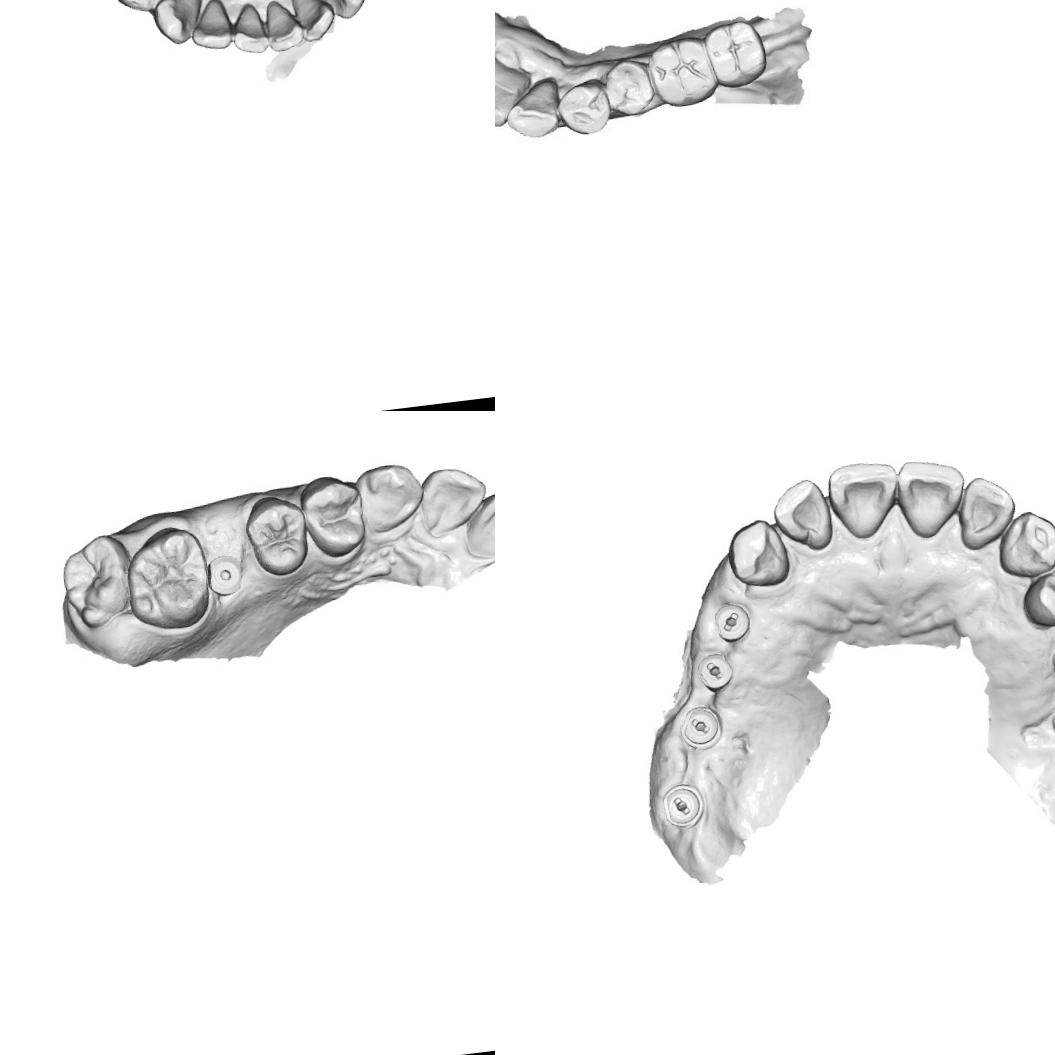canine: (350, 459, 428, 536), (724, 516, 794, 592), (992, 508, 1055, 581), (500, 74, 566, 142), (149, 0, 210, 47), (306, 0, 368, 23)
implant: (205, 554, 245, 596)
implant_minus: (659, 784, 706, 829), (680, 708, 727, 752), (694, 648, 740, 690), (713, 600, 754, 640)
incisor: (890, 450, 969, 540), (825, 460, 903, 544), (414, 461, 490, 533), (950, 472, 1019, 550), (768, 476, 835, 555), (185, 0, 237, 54), (259, 0, 308, 56), (460, 486, 495, 562), (228, 2, 272, 57), (293, 0, 337, 42), (495, 70, 521, 132)
molar: (120, 523, 213, 632), (53, 530, 138, 632), (643, 32, 720, 112), (704, 16, 768, 92)
premolar: (296, 470, 368, 560), (243, 494, 314, 581), (600, 57, 662, 120), (554, 76, 614, 140), (1015, 552, 1055, 632), (111, 0, 168, 13)
